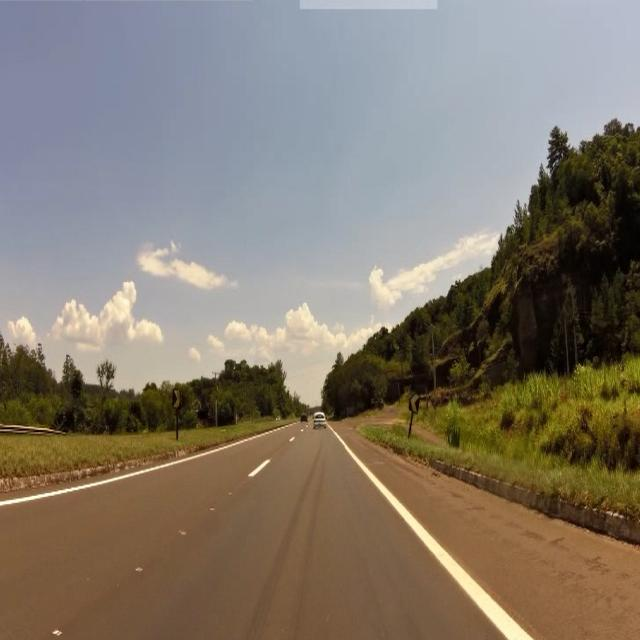Del: (409, 391, 421, 418), (172, 387, 184, 408)
